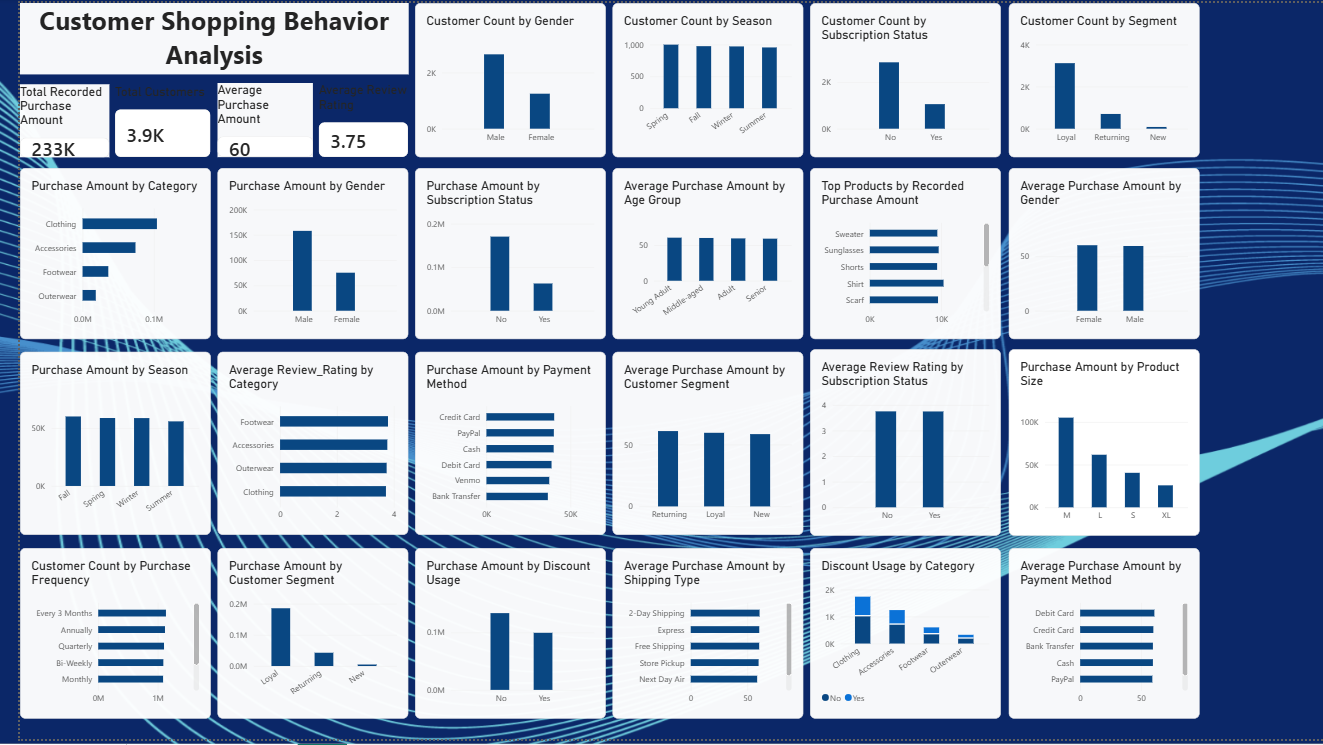

Layout of this report page (visuals, bound fields, positions):
{"tool":"powerbi","page":{"name":"Main Dashboard","canvas":[1920,1080],"ordinal":0},"visuals":[{"type":"cardVisual","title":"Total Recorded Purchase Amount","fields":{"Data":["Sum(public customer_shopping.purchase_amount)"]},"box":[0,118.8,131.2,107.5],"z":0},{"type":"cardVisual","title":"Total Customers","fields":{"Data":["Count(public customer_shopping.customer_id)"]},"box":[140,118.8,140,107.5],"z":1000},{"type":"cardVisual","title":"Average Purchase Amount","fields":{"Data":["Avg(public customer_shopping.purchase_amount)"]},"box":[290,117.5,140,108.8],"z":2000},{"type":"clusteredColumnChart","title":"Purchase Amount by Gender","fields":{"Category":["public customer_shopping.gender"],"Y":["Sum(public customer_shopping.purchase_amount)"]},"box":[290,241.2,280,251.2],"z":3000},{"type":"clusteredBarChart","title":"Average Review_Rating by Category","fields":{"Category":["public customer_shopping.category"],"Y":["Avg(public customer_shopping.review_rating)"]},"box":[290,512.5,280,268.8],"z":4000},{"type":"clusteredColumnChart","title":"Purchase Amount by Customer Segment","fields":{"Category":["public customer_shopping.customer_segment"],"Y":["Sum(public customer_shopping.purchase_amount)"]},"box":[290,800,280,250],"z":5000},{"type":"clusteredColumnChart","title":"Purchase Amount by Subscription Status","fields":{"Category":["public customer_shopping.subscription_status"],"Y":["Sum(public customer_shopping.purchase_amount)"]},"box":[580,241.2,280,251.2],"z":6000},{"type":"clusteredBarChart","title":"Purchase Amount by Payment Method","fields":{"Category":["public customer_shopping.payment_method"],"Y":["Sum(public customer_shopping.purchase_amount)"]},"box":[580,512.5,280,268.8],"z":7000},{"type":"clusteredColumnChart","title":"Purchase Amount by Discount Usage","fields":{"Category":["public customer_shopping.discount_applied"],"Y":["Sum(public customer_shopping.purchase_amount)"]},"box":[580,800,280,250],"z":8000},{"type":"clusteredColumnChart","title":"Average Purchase Amount by Age Group","fields":{"Category":["public customer_shopping.age_group"],"Y":["Avg(public customer_shopping.purchase_amount)"]},"box":[870,241.2,280,251.2],"z":9000},{"type":"clusteredColumnChart","title":"Average Purchase Amount by Customer Segment","fields":{"Category":["public customer_shopping.customer_segment"],"Y":["Avg(public customer_shopping.purchase_amount)"]},"box":[870,512.5,280,268.8],"z":10000},{"type":"clusteredBarChart","title":"Average Purchase Amount by Shipping Type","fields":{"Category":["public customer_shopping.shipping_type"],"Y":["Avg(public customer_shopping.purchase_amount)"]},"box":[870,800,280,250],"z":11000},{"type":"clusteredColumnChart","title":"Customer Count by Gender","fields":{"Category":["public customer_shopping.gender"],"Y":["Count(public customer_shopping.customer_id)"]},"box":[580,0,280,226.2],"z":12000},{"type":"clusteredColumnChart","title":"Customer Count by Subscription Status","fields":{"Category":["public customer_shopping.subscription_status"],"Y":["Count(public customer_shopping.customer_id)"]},"box":[1160,0,280,226.2],"z":13000},{"type":"clusteredColumnChart","title":"Average Review Rating by Subscription Status","fields":{"Category":["public customer_shopping.subscription_status"],"Y":["Avg(public customer_shopping.review_rating)"]},"box":[1160,507.5,280,273.8],"z":14000},{"type":"columnChart","title":"Discount Usage by Category","fields":{"Category":["public customer_shopping.category"],"Series":["public customer_shopping.discount_applied"],"Y":["Count(public customer_shopping.customer_id)"]},"box":[1160,800,280,250],"z":15000},{"type":"clusteredColumnChart","title":"Customer Count by Season","fields":{"Category":["public customer_shopping.season"],"Y":["Count(public customer_shopping.customer_id)"]},"box":[870,0,280,226.2],"z":16000},{"type":"clusteredBarChart","title":"Top Products by Recorded Purchase Amount","fields":{"Category":["public customer_shopping.item_purchased"],"Y":["Sum(public customer_shopping.purchase_amount)"]},"box":[1160,241.2,280,251.2],"z":17000},{"type":"clusteredColumnChart","title":"Average Purchase Amount  by Gender","fields":{"Category":["public customer_shopping.gender"],"Y":["Avg(public customer_shopping.purchase_amount)"]},"box":[1450,241.2,280,251.2],"z":18000},{"type":"clusteredBarChart","title":"Average Purchase Amount by Payment Method","fields":{"Category":["public customer_shopping.payment_method"],"Y":["Avg(public customer_shopping.purchase_amount)"]},"box":[1450,800,280,250],"z":19000},{"type":"clusteredColumnChart","title":"Purchase Amount by Product Size","fields":{"Category":["public customer_shopping.size"],"Y":["Sum(public customer_shopping.purchase_amount)"]},"box":[1450,507.5,280,273.8],"z":20000},{"type":"clusteredColumnChart","title":"Customer Count by Segment","fields":{"Category":["public customer_shopping.customer_segment"],"Y":["Count(public customer_shopping.customer_id)"]},"box":[1450,0,280,226.2],"z":23000},{"type":"clusteredBarChart","title":"Purchase Amount by Category","fields":{"Category":["public customer_shopping.category"],"Y":["Sum(public customer_shopping.purchase_amount)"]},"box":[0,241.2,280,251.2],"z":24000},{"type":"clusteredColumnChart","title":"Purchase Amount by Season","fields":{"Category":["public customer_shopping.season"],"Y":["Sum(public customer_shopping.purchase_amount)"]},"box":[0,512.5,280,268.8],"z":25000},{"type":"cardVisual","title":"Average Review Rating","fields":{"Data":["Avg(public customer_shopping.review_rating)"]},"box":[438.8,117.5,131.2,108.8],"z":26000},{"type":"clusteredBarChart","title":"Customer Count by Purchase Frequency","fields":{"Category":["public customer_shopping.frequency_of_purchases"],"Y":["Sum(public customer_shopping.customer_id)"]},"box":[0,800,280,250],"z":27000},{"type":"textbox","box":[0,0,570,105],"z":27001}]}

Visuals, with their boxes in screenshot pixels (x1, y1, x2, y2), scaled from the page's 1920x1080 canvas onto the 1323x745 screenshot:
"Total Recorded Purchase Amount" cardVisual: locate(0, 82, 90, 156)
"Total Customers" cardVisual: locate(96, 82, 193, 156)
"Average Purchase Amount" cardVisual: locate(200, 81, 296, 156)
"Purchase Amount by Gender" clusteredColumnChart: locate(200, 166, 393, 340)
"Average Review_Rating by Category" clusteredBarChart: locate(200, 354, 393, 539)
"Purchase Amount by Customer Segment" clusteredColumnChart: locate(200, 552, 393, 724)
"Purchase Amount by Subscription Status" clusteredColumnChart: locate(400, 166, 593, 340)
"Purchase Amount by Payment Method" clusteredBarChart: locate(400, 354, 593, 539)
"Purchase Amount by Discount Usage" clusteredColumnChart: locate(400, 552, 593, 724)
"Average Purchase Amount by Age Group" clusteredColumnChart: locate(599, 166, 792, 340)
"Average Purchase Amount by Customer Segment" clusteredColumnChart: locate(599, 354, 792, 539)
"Average Purchase Amount by Shipping Type" clusteredBarChart: locate(599, 552, 792, 724)
"Customer Count by Gender" clusteredColumnChart: locate(400, 0, 593, 156)
"Customer Count by Subscription Status" clusteredColumnChart: locate(799, 0, 992, 156)
"Average Review Rating by Subscription Status" clusteredColumnChart: locate(799, 350, 992, 539)
"Discount Usage by Category" columnChart: locate(799, 552, 992, 724)
"Customer Count by Season" clusteredColumnChart: locate(599, 0, 792, 156)
"Top Products by Recorded Purchase Amount" clusteredBarChart: locate(799, 166, 992, 340)
"Average Purchase Amount  by Gender" clusteredColumnChart: locate(999, 166, 1192, 340)
"Average Purchase Amount by Payment Method" clusteredBarChart: locate(999, 552, 1192, 724)
"Purchase Amount by Product Size" clusteredColumnChart: locate(999, 350, 1192, 539)
"Customer Count by Segment" clusteredColumnChart: locate(999, 0, 1192, 156)
"Purchase Amount by Category" clusteredBarChart: locate(0, 166, 193, 340)
"Purchase Amount by Season" clusteredColumnChart: locate(0, 354, 193, 539)
"Average Review Rating" cardVisual: locate(302, 81, 393, 156)
"Customer Count by Purchase Frequency" clusteredBarChart: locate(0, 552, 193, 724)
textbox: locate(0, 0, 393, 72)
